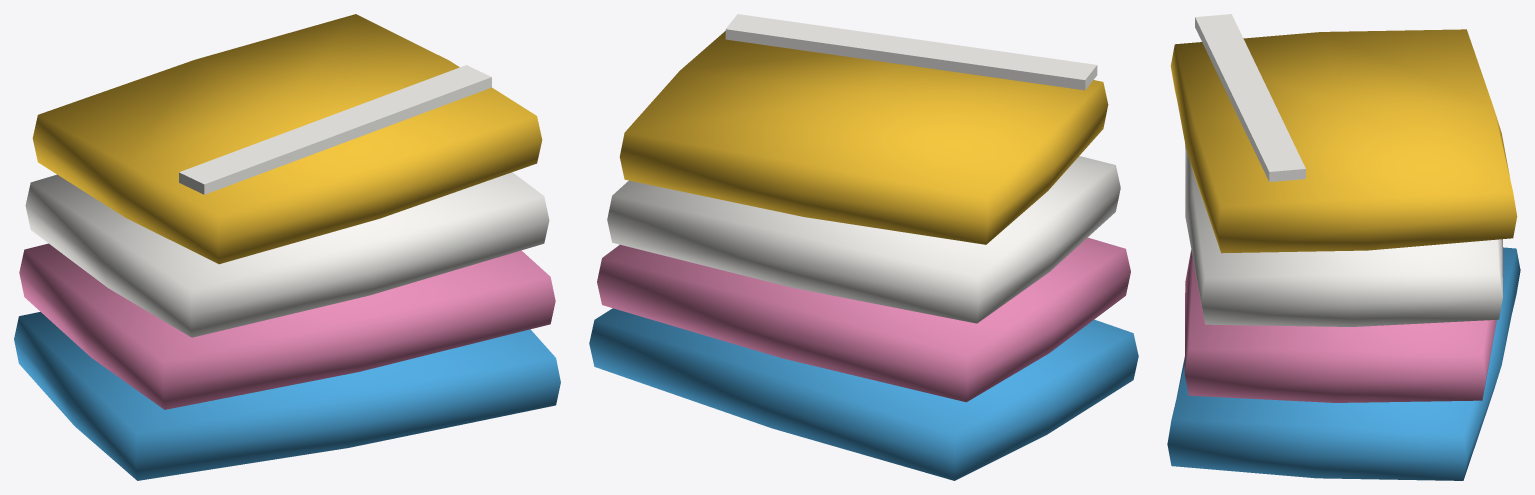
The model's file is towel_stack.glb.
The picture shows the model from 3 angles, left to right: view 1: azimuth 30°, elevation 25°; view 2: azimuth 150°, elevation 25°; view 3: azimuth 270°, elevation 25°; orthographic projection. The views are drawn at different scales.
Parts seen in each view (by area): view 1: root; view 2: root; view 3: root.
Part boxes in pixels (box(x1,y1,x2,y2)): root: box(14, 14, 560, 480); root: box(589, 14, 1138, 480); root: box(1167, 14, 1520, 480).
Size of the model in its own units: 0.5176 by 0.352 by 0.3779.
